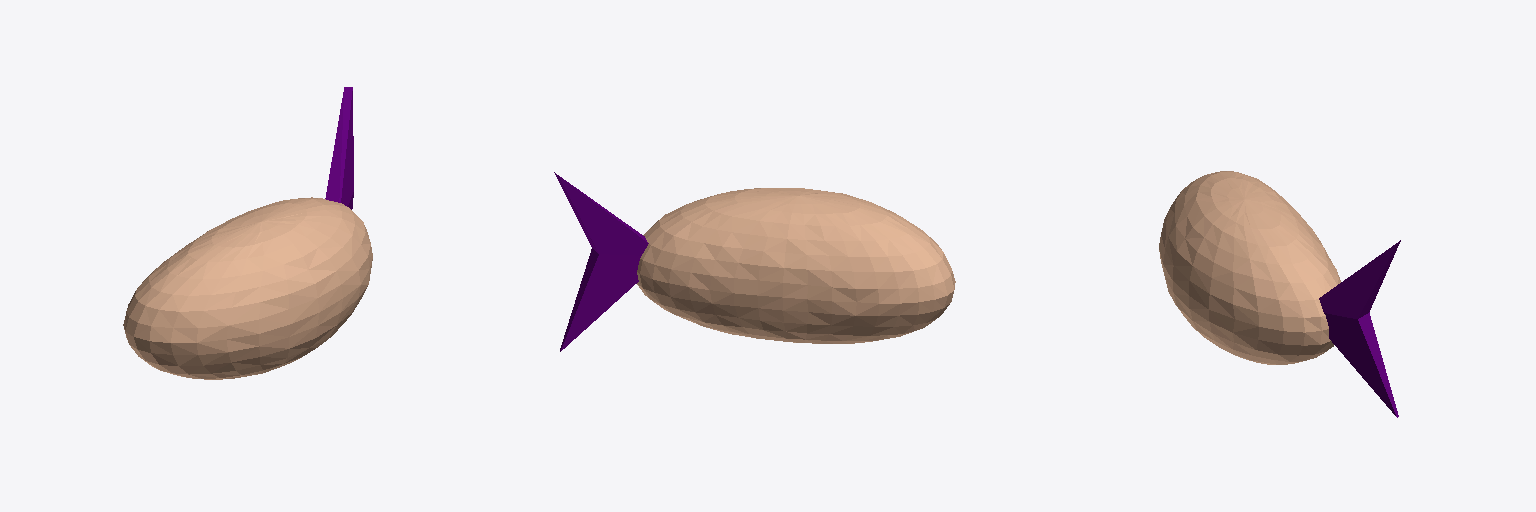
Rendered from bodyandtail_R.obj.
3 renders of one model, left to right at view 1: azimuth 30°, elevation 25°; view 2: azimuth 150°, elevation 25°; view 3: azimuth 270°, elevation 25°, orthographic.
Parts seen in each view (by area): view 1: Sphere001, Line001; view 2: Sphere001, Line001; view 3: Sphere001, Line001.
Part boxes in pixels (x1,y1,x2,y2): Sphere001: (123,197,372,379); Line001: (325,87,353,209); Sphere001: (637,188,955,343); Line001: (554,172,648,351); Sphere001: (1159,171,1340,364); Line001: (1319,240,1400,417).
Size of the model in its own units: 3.39 by 1.85 by 2.29.